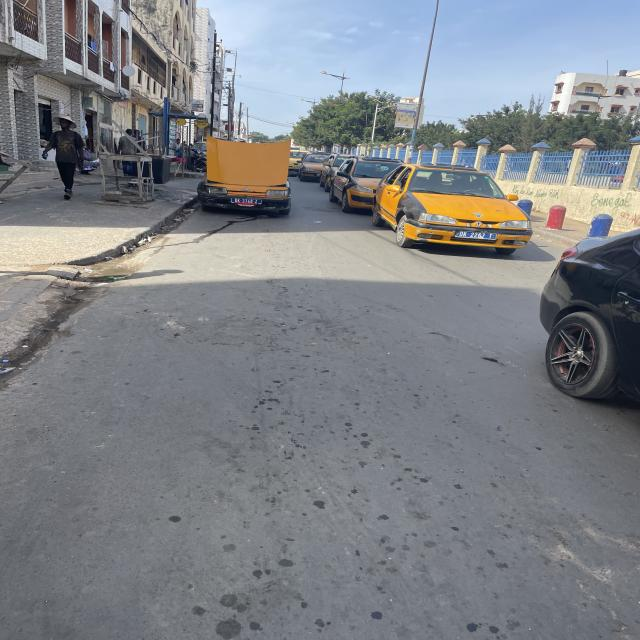arret tata: (172, 117, 216, 132)
particulier: (539, 228, 640, 401)
taxi: (373, 164, 534, 258), (197, 137, 302, 219), (38, 114, 88, 203), (332, 157, 407, 214), (279, 147, 315, 176), (303, 153, 333, 182), (117, 125, 141, 159)
